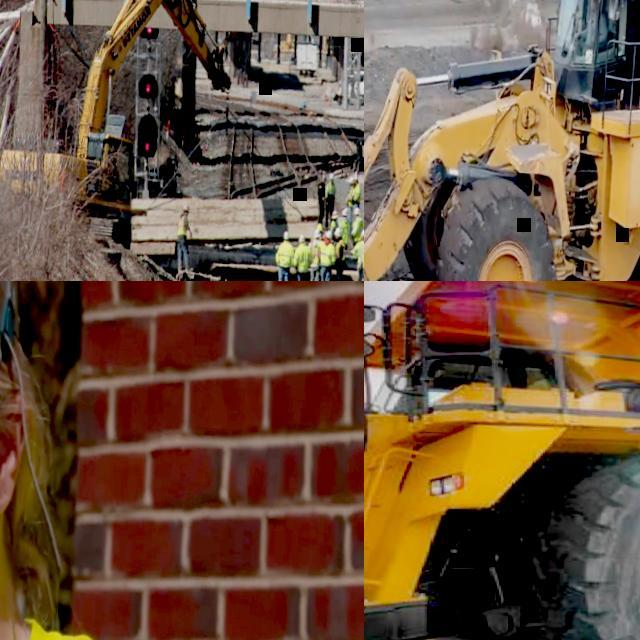helmet: (329, 208, 338, 218), (332, 226, 340, 234), (324, 230, 332, 238), (282, 230, 289, 238), (297, 234, 304, 242), (346, 176, 353, 184), (351, 207, 359, 214), (340, 208, 346, 216), (359, 227, 364, 236), (314, 228, 320, 235), (352, 172, 358, 179), (182, 204, 188, 210), (328, 172, 333, 178), (322, 174, 326, 178)
vest: (292, 242, 312, 270), (316, 238, 334, 265), (274, 240, 292, 266), (349, 238, 364, 267), (307, 238, 320, 266), (350, 214, 362, 240), (338, 217, 349, 244), (175, 214, 186, 237), (323, 180, 335, 200), (334, 237, 344, 260), (351, 182, 360, 202), (344, 184, 352, 206), (360, 240, 364, 266), (328, 218, 336, 228)
